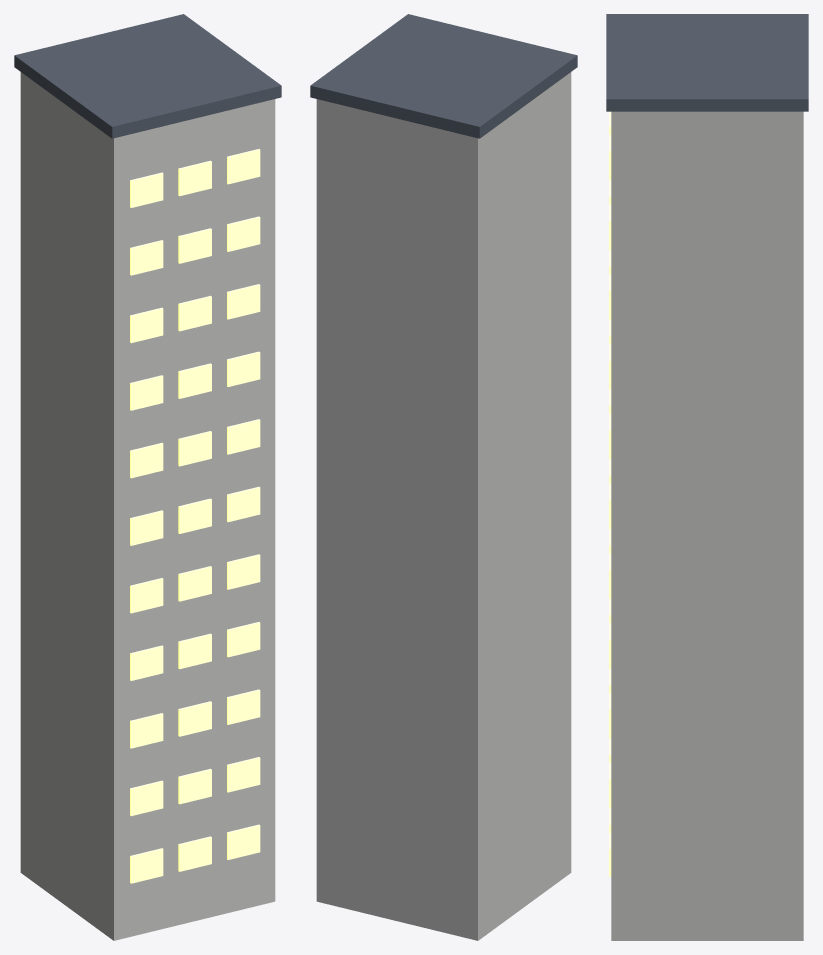
Rendered from skyscraper_2.glb.
3 renders of one model, left to right at view 1: azimuth 30°, elevation 25°; view 2: azimuth 150°, elevation 25°; view 3: azimuth 270°, elevation 25°, orthographic. The views are drawn at different scales.
Parts seen in each view (by area): view 1: tower, window (×33), roof_trim; view 2: tower, roof_trim; view 3: tower, roof_trim.
Boxes of the visible parts, bbox=[...] form: tower: bbox=[20, 72, 275, 940]; window (×33): bbox=[130, 149, 260, 883]; roof_trim: bbox=[14, 14, 281, 138]; tower: bbox=[316, 72, 571, 940]; roof_trim: bbox=[310, 14, 577, 138]; tower: bbox=[611, 111, 803, 940]; roof_trim: bbox=[606, 14, 808, 111].
Bounding box in the file's own units: 5.25 × 24.17 × 5.25.
